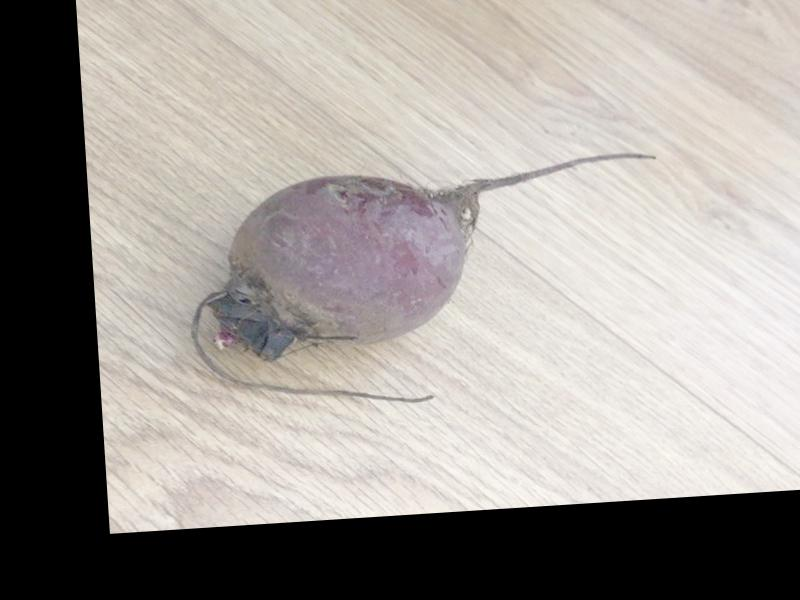Beet: (181, 150, 670, 416)
